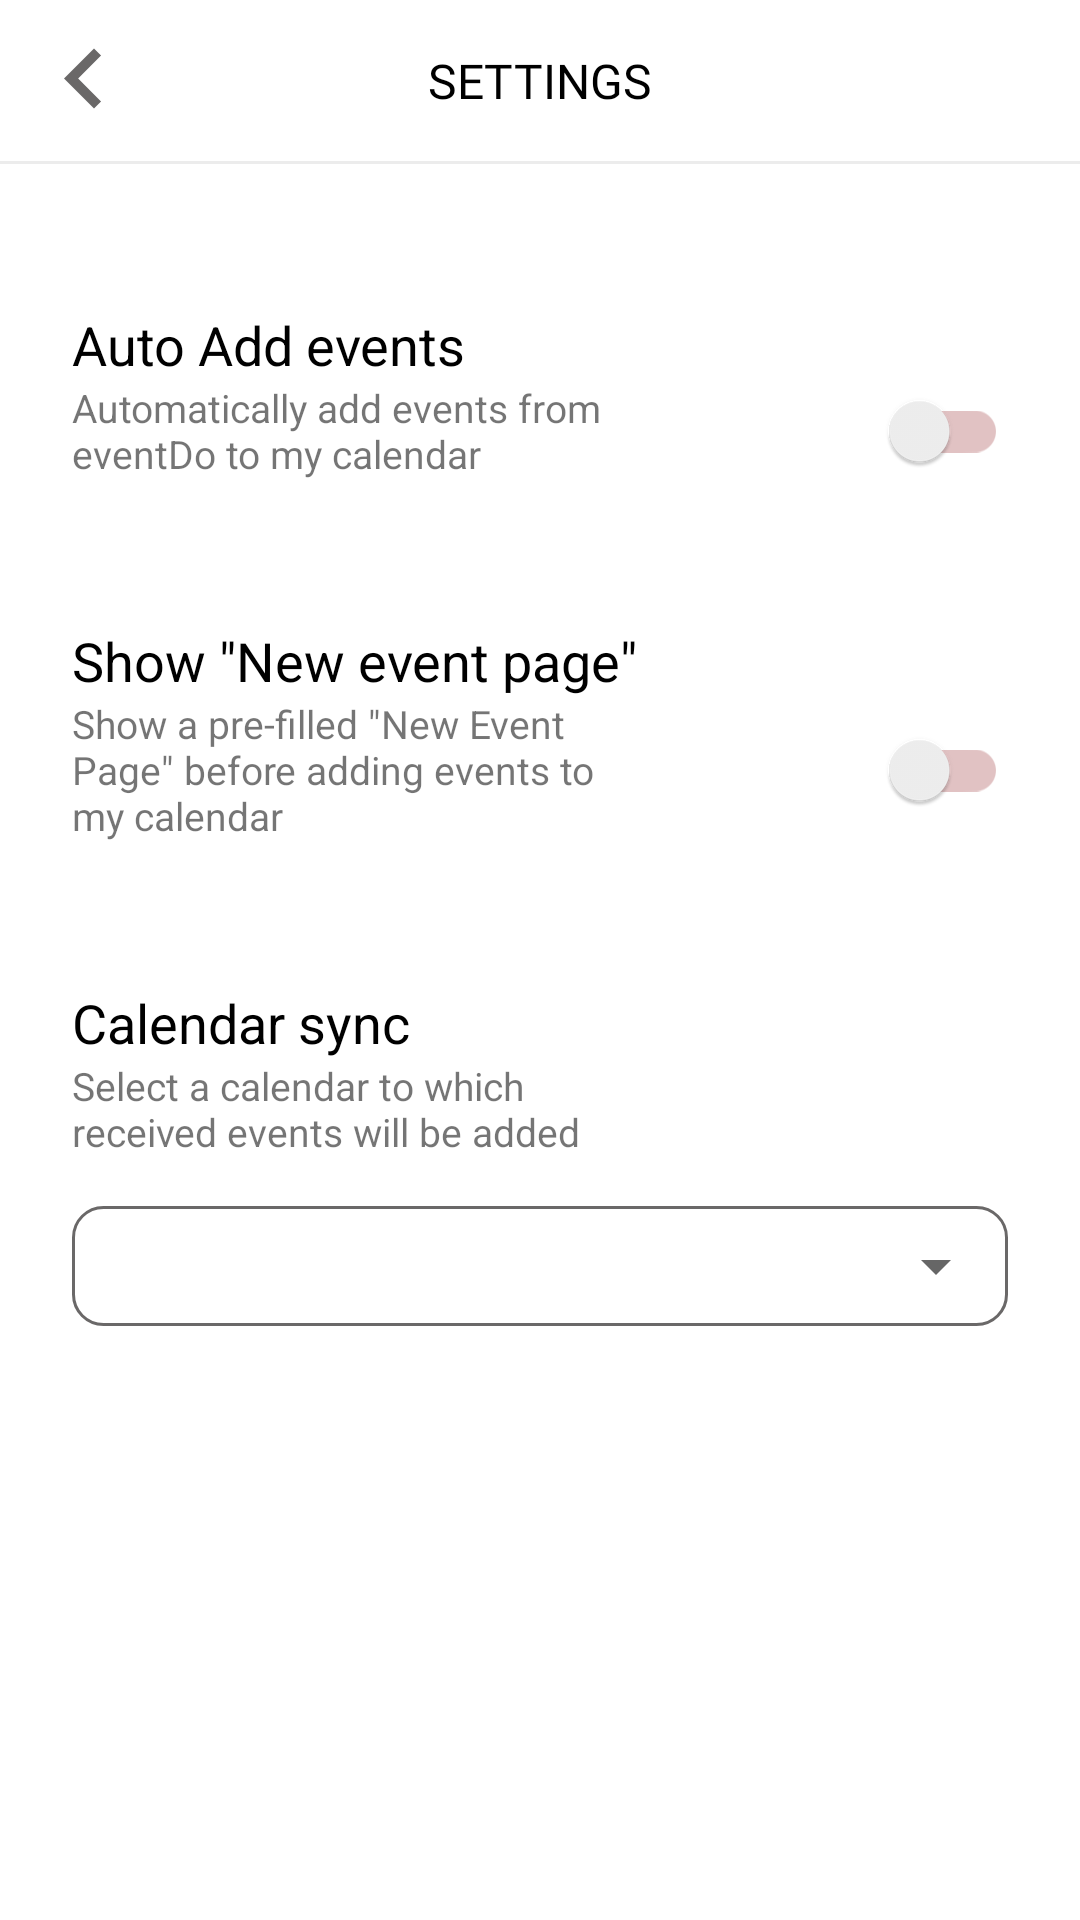

Locate icon controls on the screen. Image size 1080×1920, boxes as detection(x1, y1, x2, y2).
back arrow: detection(64, 49, 101, 108)
